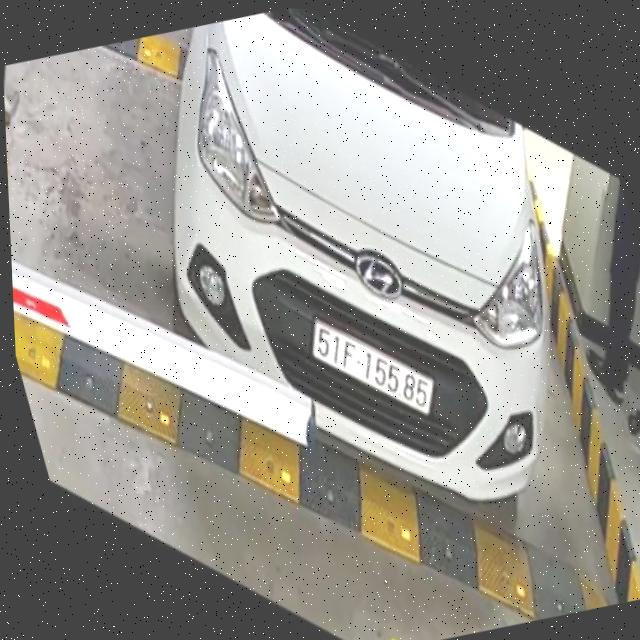car: (99, 3, 622, 566)
plate: (295, 291, 444, 440)
